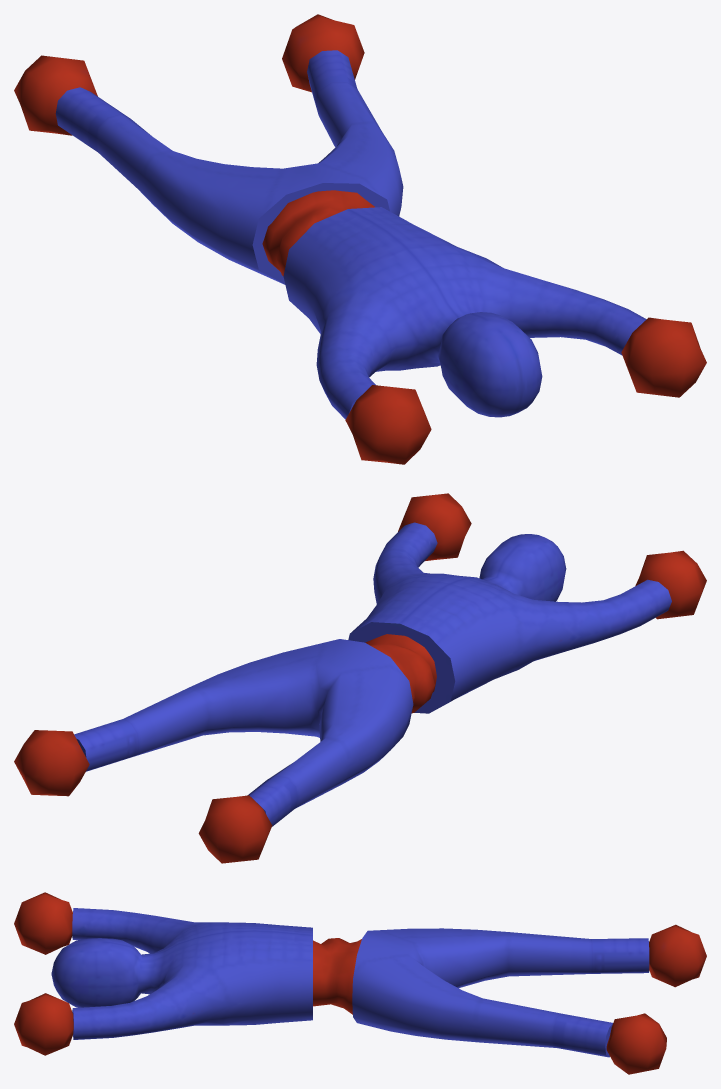
The model's file is ref_gtwallclimber.glb.
The picture shows the model from 3 angles, top to bottom: view 1: azimuth 30°, elevation 25°; view 2: azimuth 150°, elevation 25°; view 3: azimuth 270°, elevation 25°; orthographic projection. The views are drawn at different scales.
Parts seen in each view (by area): view 1: ref_gtwallclimber_part0, ref_gtwallclimber_part1; view 2: ref_gtwallclimber_part0, ref_gtwallclimber_part1; view 3: ref_gtwallclimber_part0, ref_gtwallclimber_part1.
Part boxes in pixels (bbox=[...]): ref_gtwallclimber_part0: bbox=[55, 50, 646, 419]; ref_gtwallclimber_part1: bbox=[14, 14, 706, 464]; ref_gtwallclimber_part0: bbox=[74, 522, 671, 826]; ref_gtwallclimber_part1: bbox=[14, 493, 706, 863]; ref_gtwallclimber_part0: bbox=[51, 908, 649, 1057]; ref_gtwallclimber_part1: bbox=[14, 892, 706, 1074].
Bounding box in the file's own units: 0.5004 × 0.1375 × 1.
2 materials, 2 textured.
